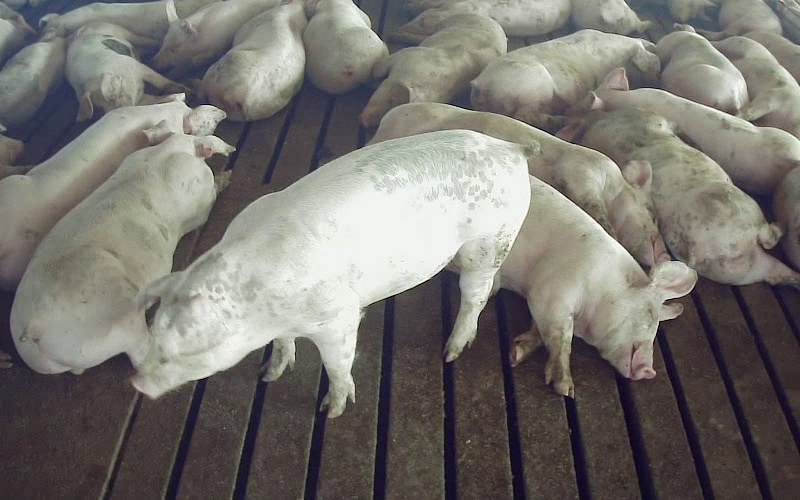pig: (133, 131, 530, 416), (11, 124, 231, 373), (371, 103, 669, 268), (495, 177, 695, 396), (0, 94, 224, 289), (560, 108, 799, 286), (588, 68, 799, 192), (360, 15, 506, 126), (65, 22, 184, 121), (152, 0, 280, 74), (712, 36, 799, 138), (656, 23, 748, 114), (303, 0, 388, 93), (392, 0, 570, 43), (0, 36, 65, 127)
